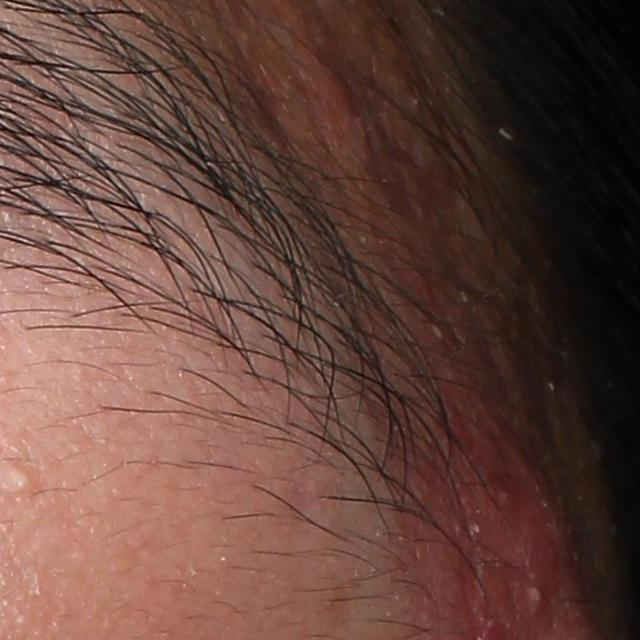comedo: (2, 465, 34, 495)
